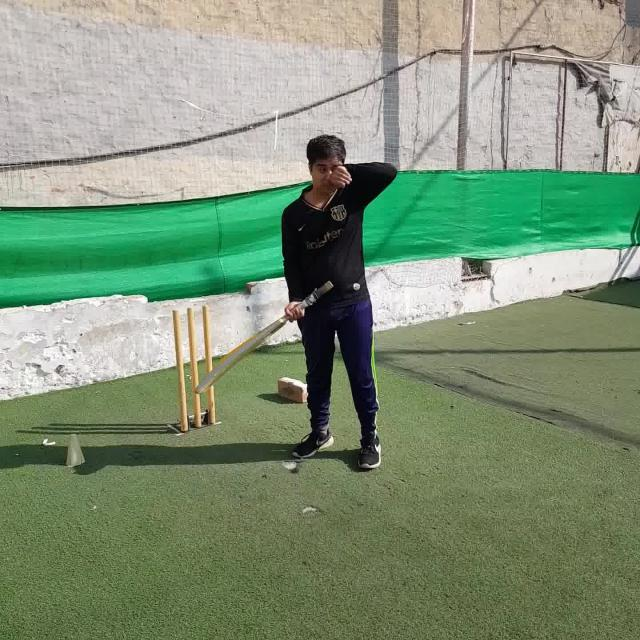bat: (194, 281, 335, 396)
